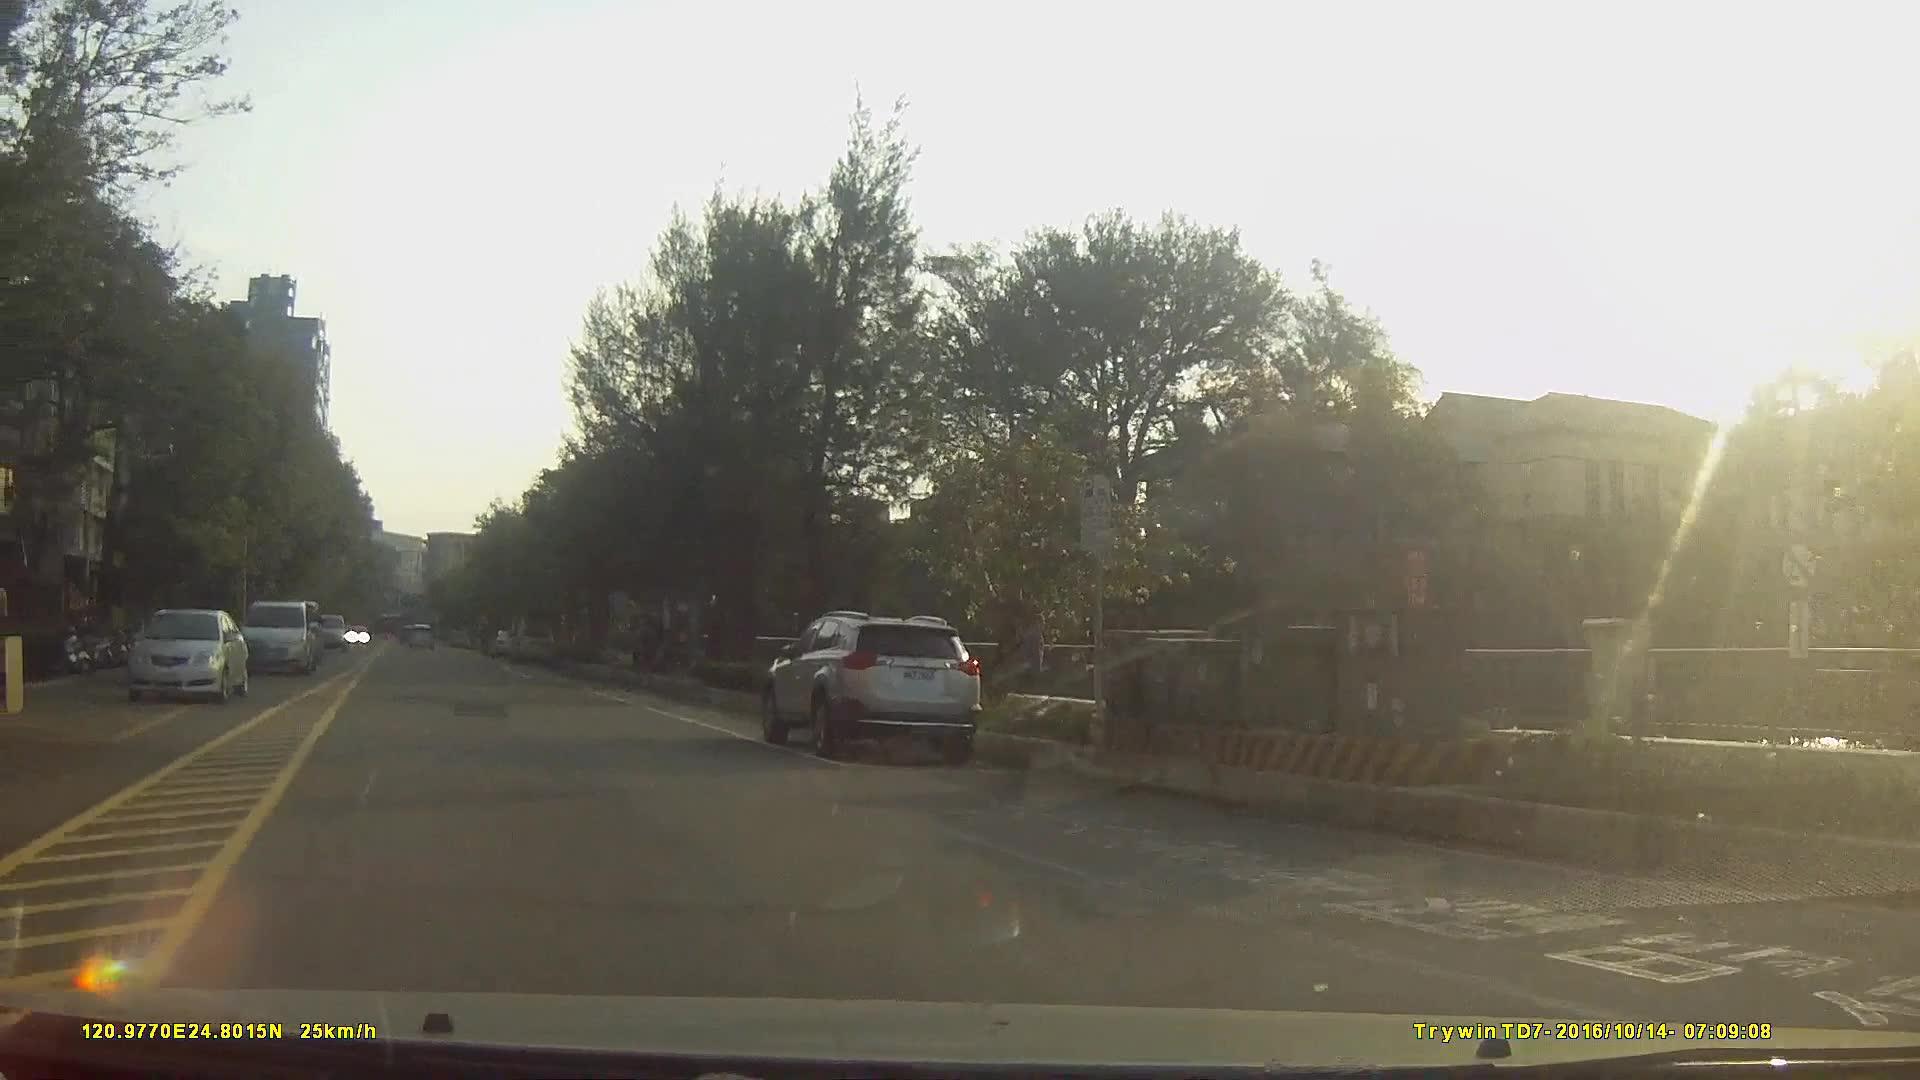vehicle: (764, 607, 978, 754), (125, 608, 249, 702), (243, 601, 318, 676), (505, 618, 556, 665), (305, 608, 345, 655)
